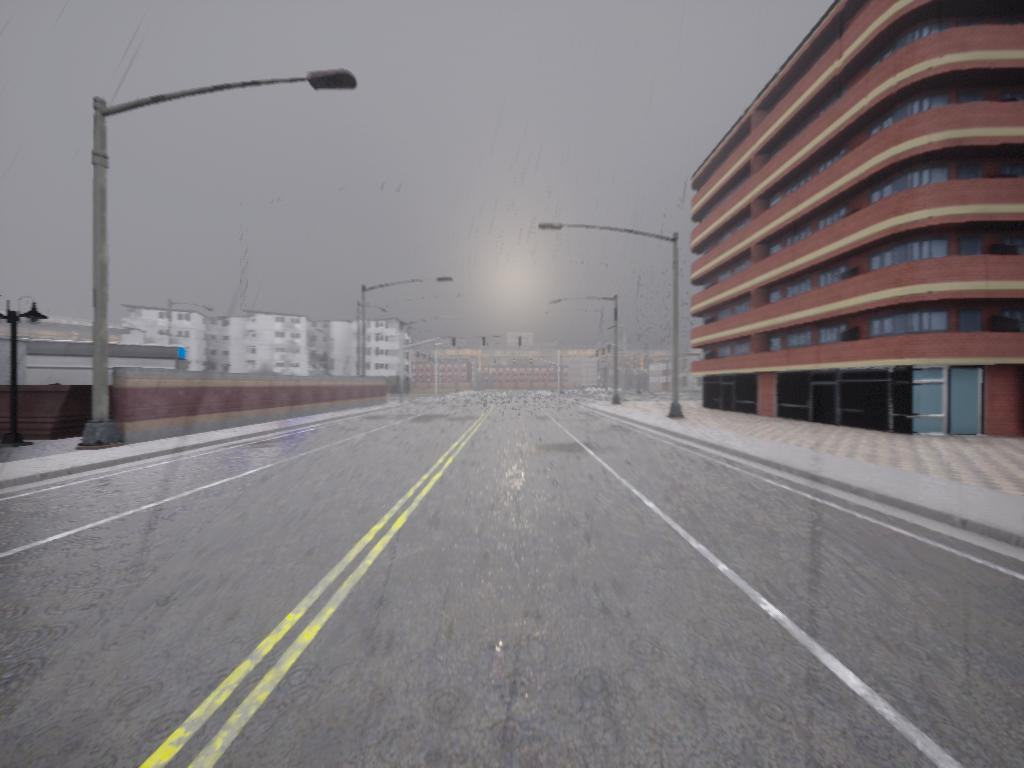traffic_light: (483, 338, 488, 349), (518, 337, 523, 348), (453, 337, 457, 350), (608, 344, 612, 355), (602, 349, 607, 357), (513, 358, 518, 365), (596, 352, 600, 359), (531, 359, 534, 367), (494, 358, 497, 365)
